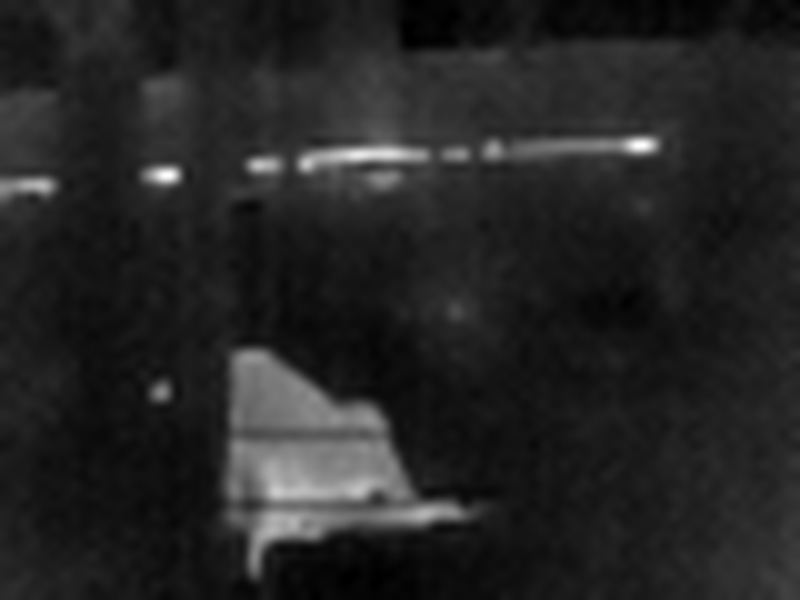elephant: (135, 342, 467, 548)
